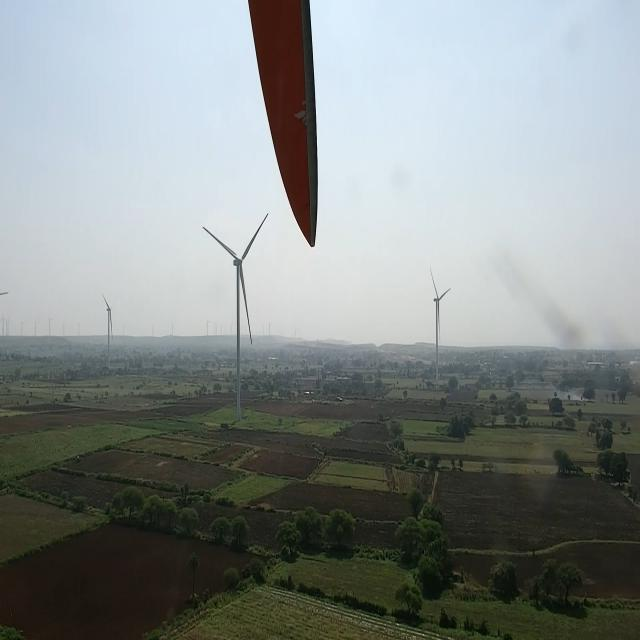PU-tape: (291, 86, 311, 148)
